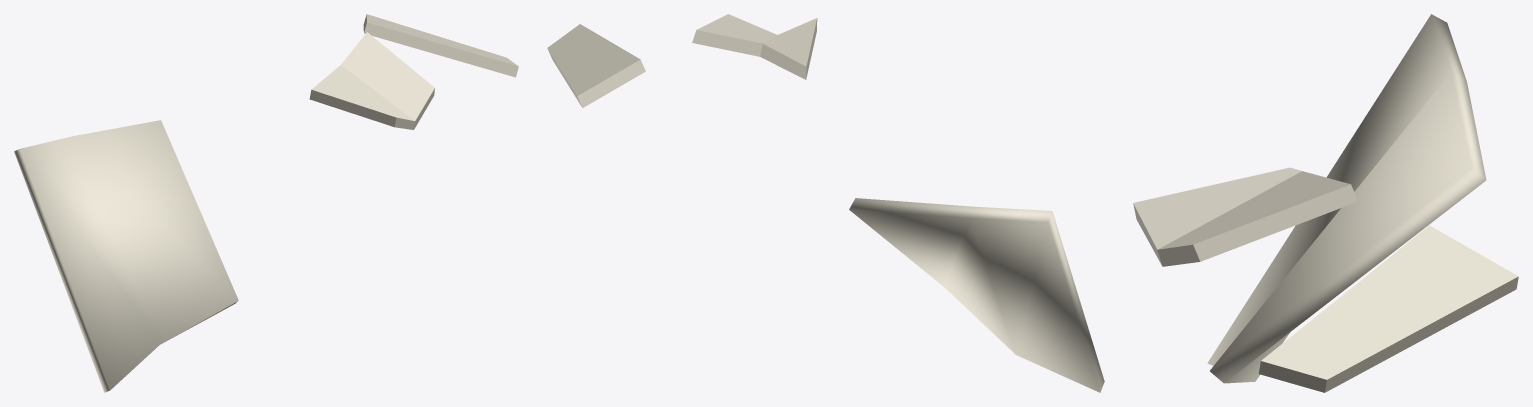
3 renders of one model, left to right at view 1: azimuth 30°, elevation 25°; view 2: azimuth 150°, elevation 25°; view 3: azimuth 270°, elevation 25°, orthographic. The views are drawn at different scales.
Visible parts, largest first — view 1: ZA_3a52c88833642dae; view 2: ZA_3a52c88833642dae; view 3: ZA_3a52c88833642dae.
Part boxes in pixels (x1,y1,x2,y2): ZA_3a52c88833642dae: (14, 14, 518, 392); ZA_3a52c88833642dae: (547, 14, 1104, 392); ZA_3a52c88833642dae: (1133, 14, 1518, 392).
Bounding box in the file's own units: 0.0227 × 0.0123 × 0.00996.
